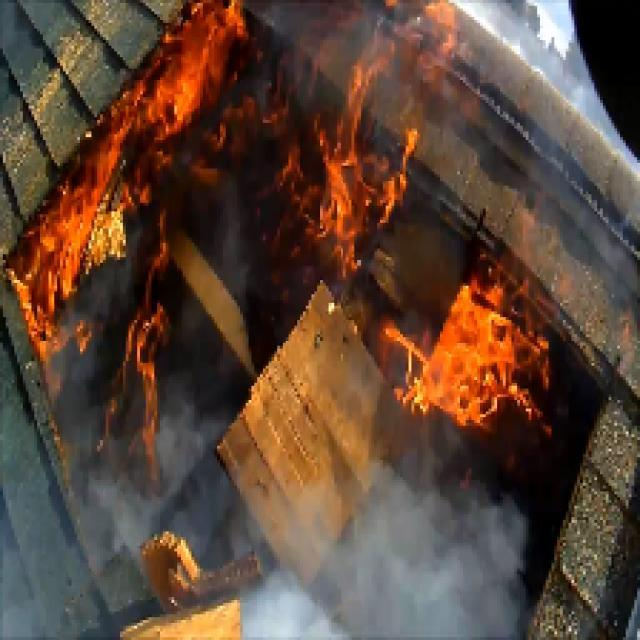Fire: (410, 278, 545, 442), (21, 179, 130, 287), (119, 39, 234, 137)
Smoke: (344, 491, 514, 632)
